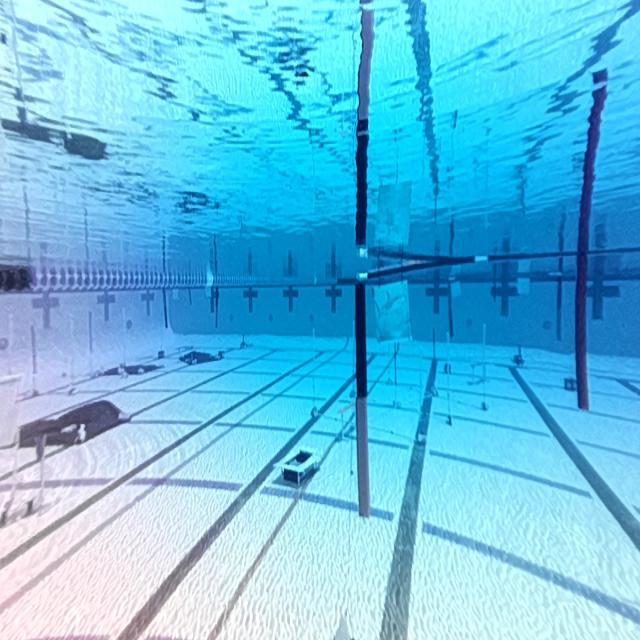round_nose: (374, 280, 413, 344)
